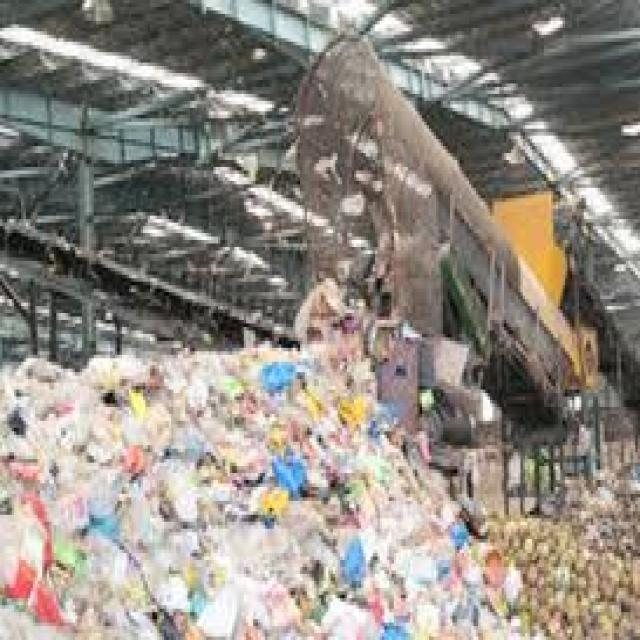plastic: (4, 349, 508, 640)
